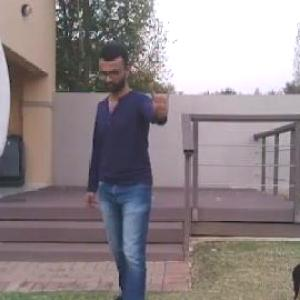takeoff-hand: (142, 72, 177, 117)
